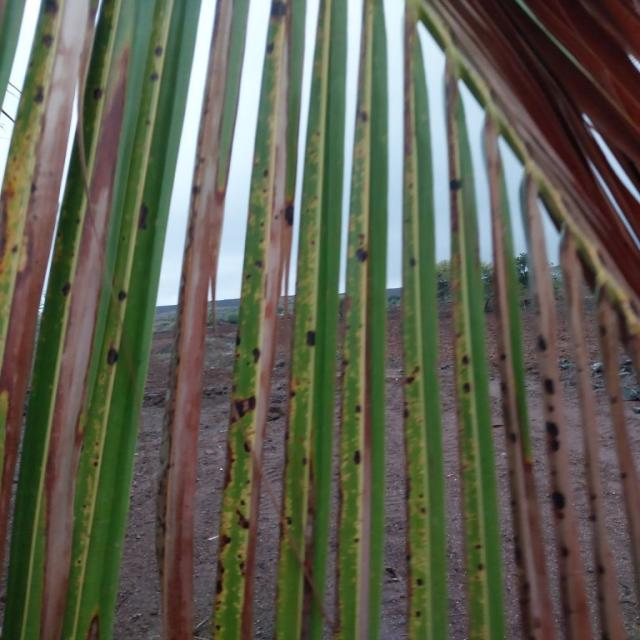gray leaf spot: (0, 0, 393, 640), (398, 0, 638, 640)
